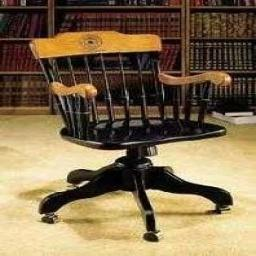Chair: (28, 32, 236, 242)
